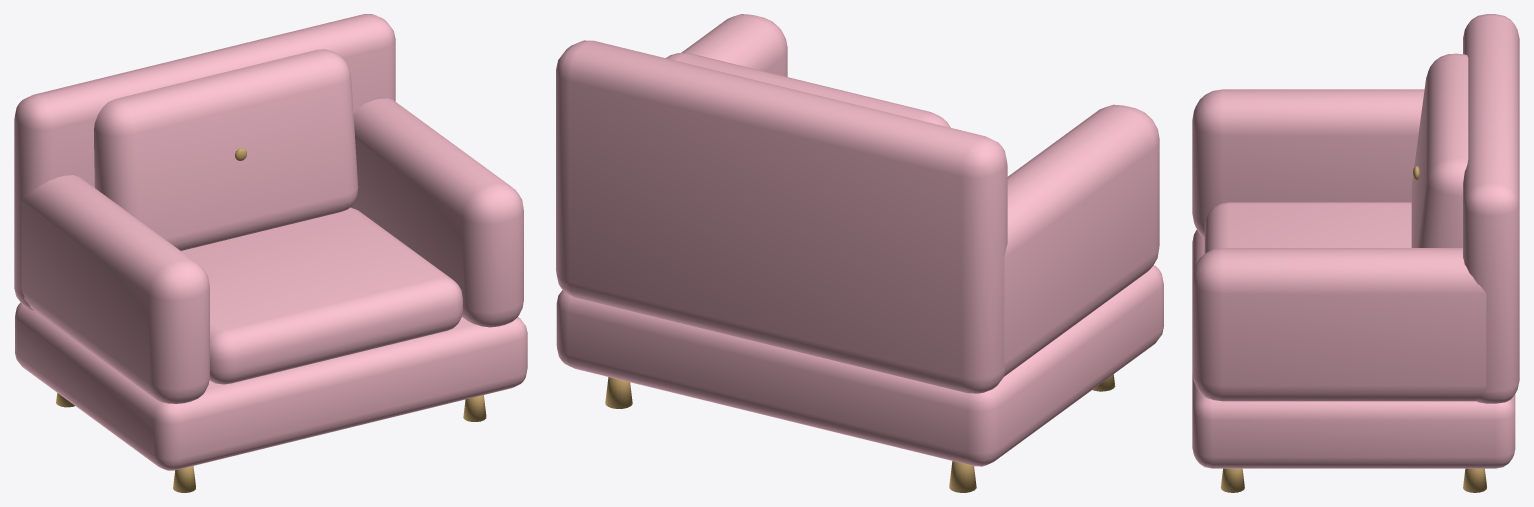
The model's file is sofa_1.glb.
3 renders of one model, left to right at view 1: azimuth 30°, elevation 25°; view 2: azimuth 150°, elevation 25°; view 3: azimuth 270°, elevation 25°, orthographic. The views are drawn at different scales.
Parts seen in each view (by area): view 1: Cone; view 2: Cone; view 3: Cone.
Boxes of the visible parts, bbox=[...] form: Cone: bbox=[14, 14, 527, 492]; Cone: bbox=[556, 14, 1163, 492]; Cone: bbox=[1192, 14, 1519, 492].
Bounding box in the file's own units: 1.1 × 0.86 × 0.81.
